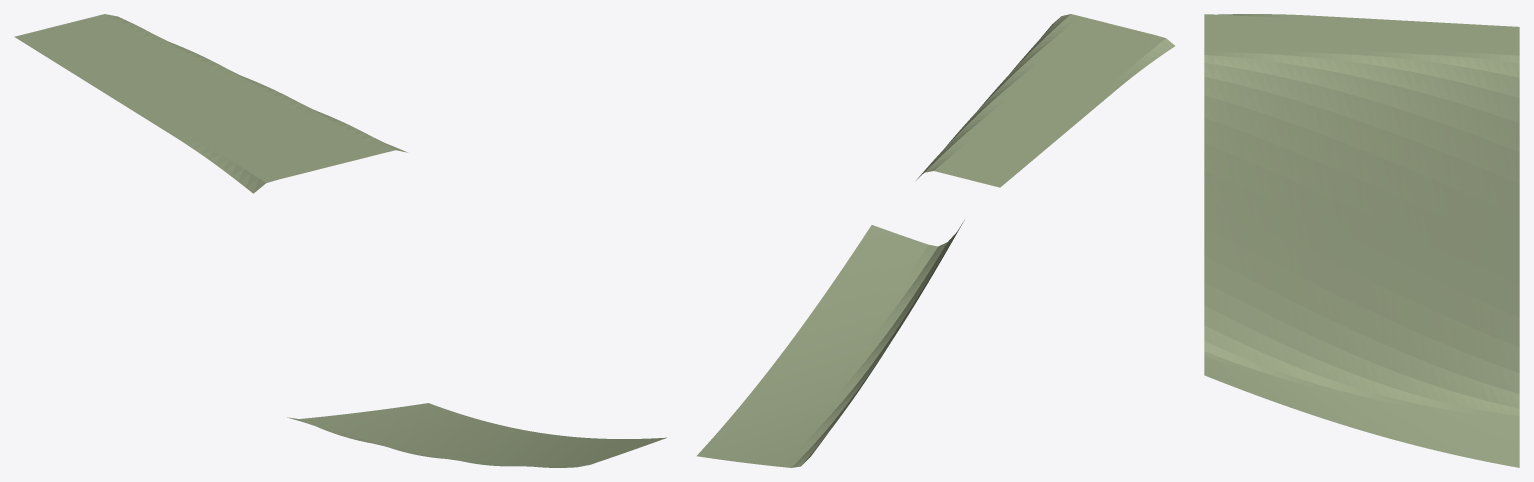
The model's file is alpine-12-6.glb.
3 views of the same model, side by side, from view 1: azimuth 30°, elevation 25°; view 2: azimuth 150°, elevation 25°; view 3: azimuth 270°, elevation 25° (orthographic). The views are drawn at different scales.
Parts seen in each view (by area): view 1: alpine-12-6; view 2: alpine-12-6; view 3: alpine-12-6.
Part boxes in pixels (x1=…): alpine-12-6: x1=14, y1=14, x2=666, y2=467; alpine-12-6: x1=696, y1=14, x2=1174, y2=467; alpine-12-6: x1=1204, y1=14, x2=1519, y2=467.
Size of the model in its own units: 256 by 292 by 256.
